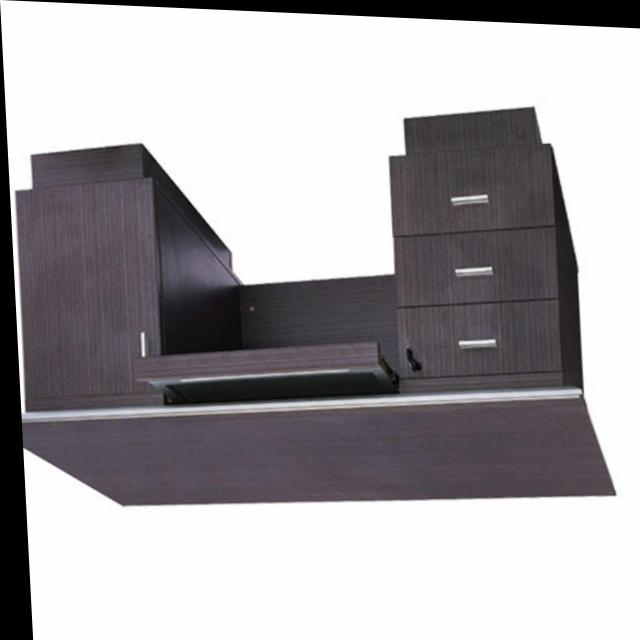Table: (3, 64, 631, 547)
